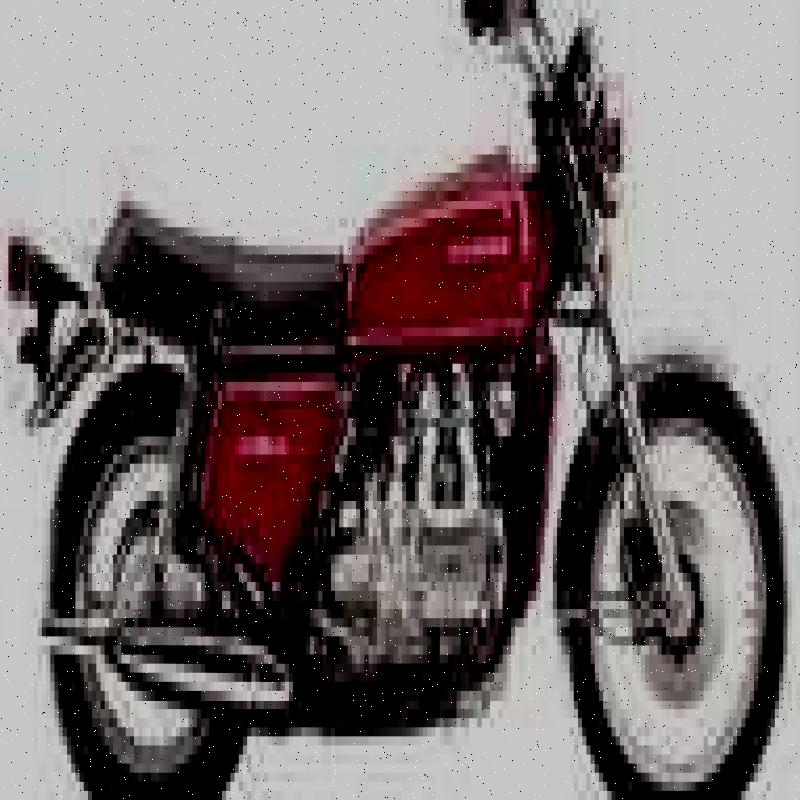bike: (12, 0, 768, 800)
